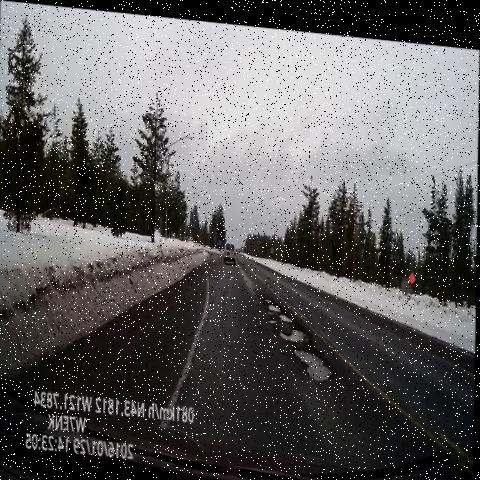pothole: (291, 335, 338, 384), (274, 313, 311, 343), (264, 289, 283, 314), (278, 306, 293, 320)
